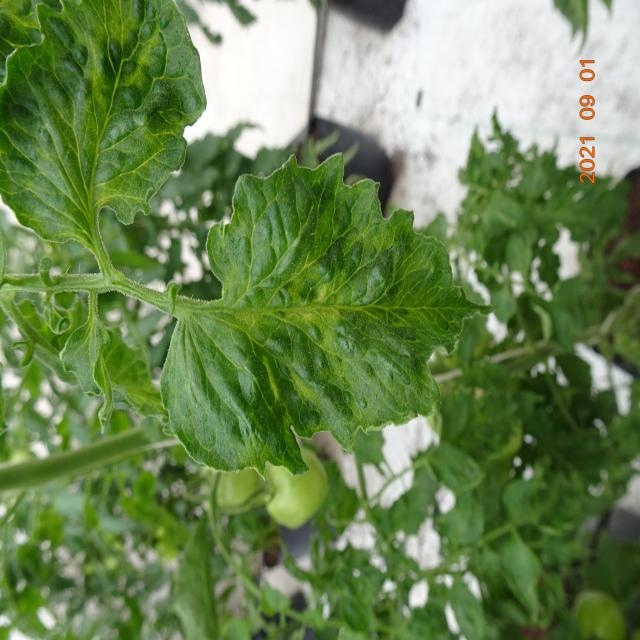T_L_R: (162, 154, 485, 474), (1, 3, 206, 273)
